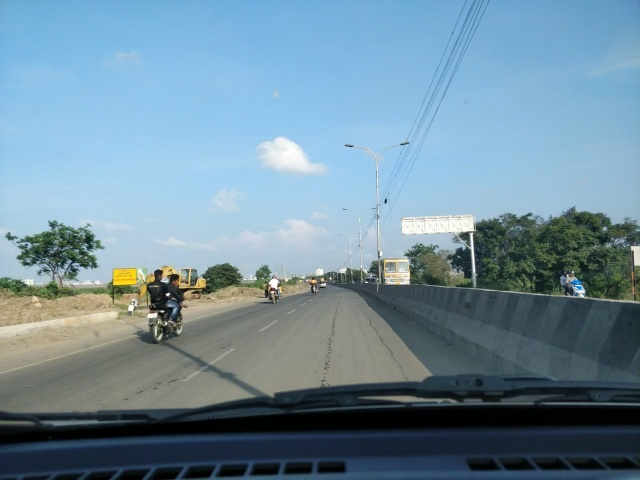car: (359, 266, 378, 293), (319, 278, 328, 288), (365, 275, 376, 283)
motorbike: (151, 267, 183, 343), (556, 260, 588, 314), (557, 267, 595, 299), (263, 276, 286, 305), (310, 277, 320, 297)
truck: (141, 260, 208, 290), (380, 250, 416, 296), (383, 255, 412, 282)
